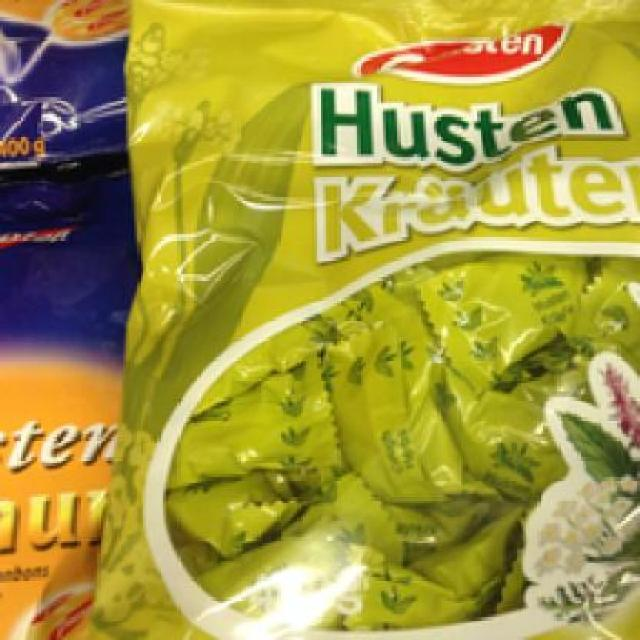Candy: (119, 0, 635, 637)
